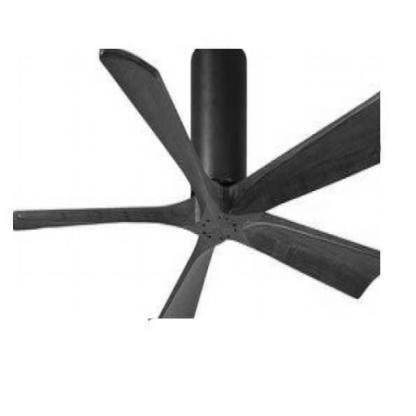ceiling-fan: (13, 49, 381, 319)
